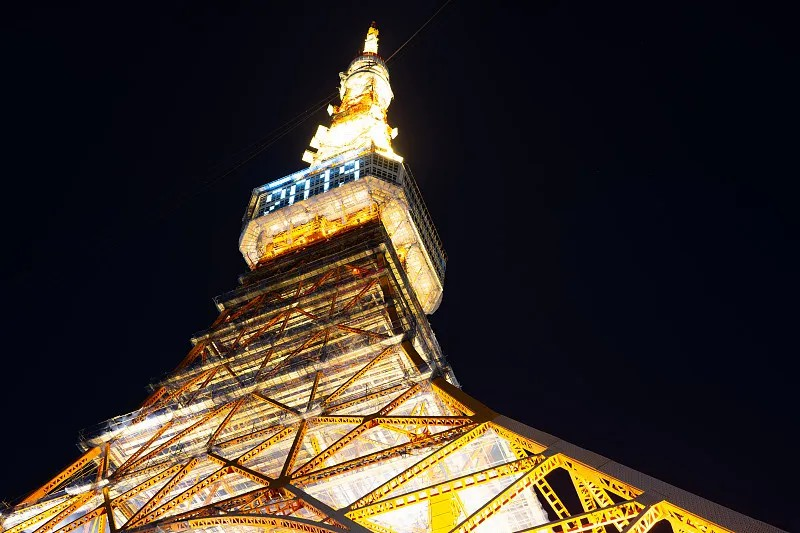Tokyo: (1, 15, 734, 532)
